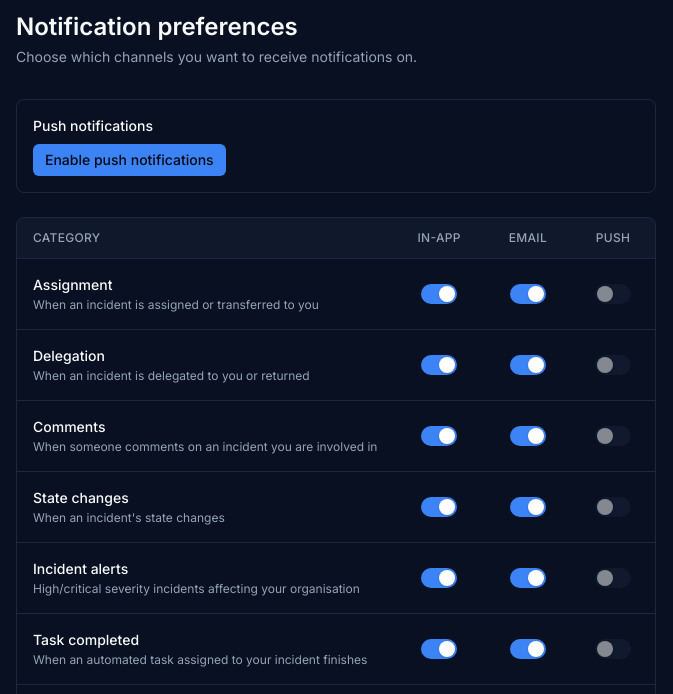
NotificationPreferences › shows guardrail error when both delegation channels disabled
This screenshot has width=673, height=694.
Expected: the text "Delegation" is shown, [33,347,105,364]
Click the switch named "delegation in-app" at (439, 365), box [421,355,457,375]
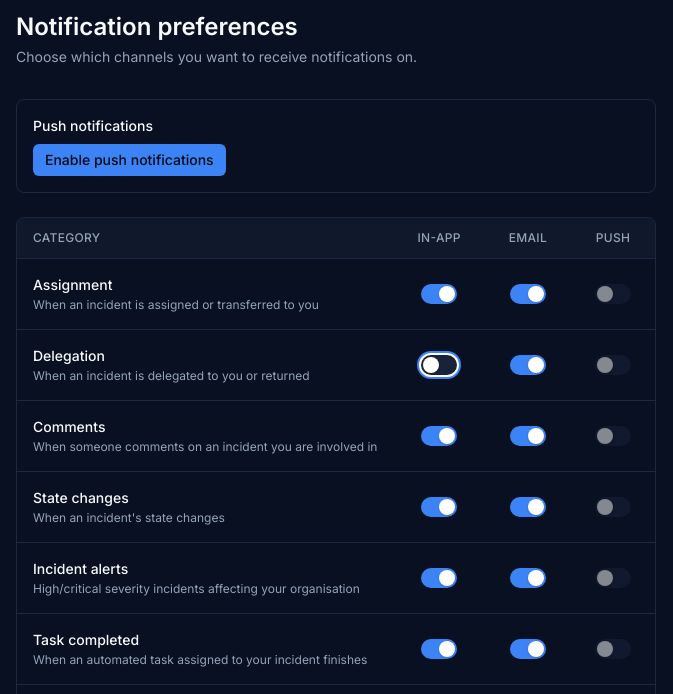
Click the switch named "delegation email" at (528, 365), box [510,355,546,375]
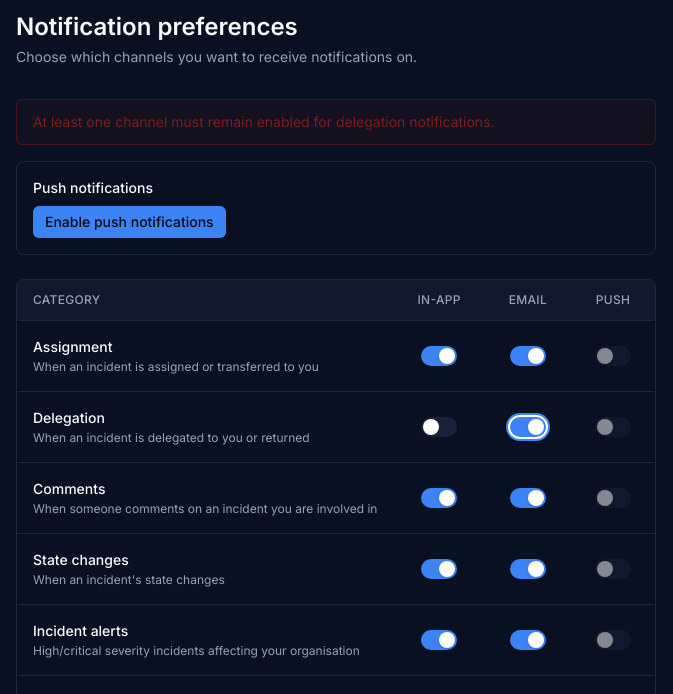
Expected: the message shows "delegation", [33,113,495,130]
